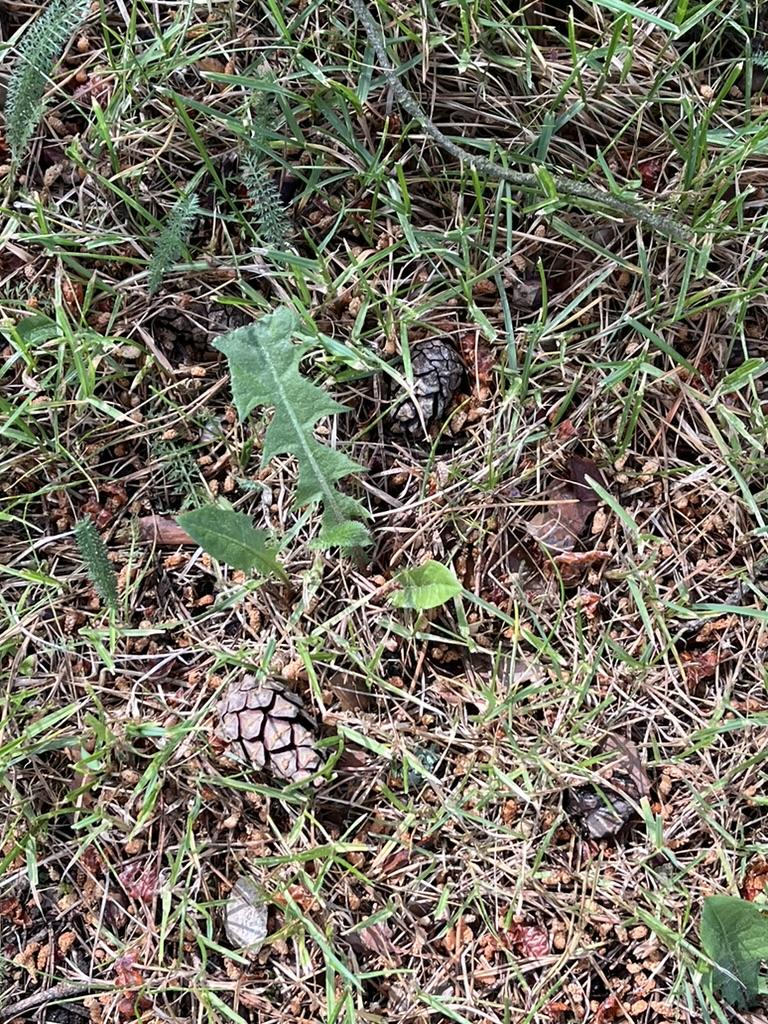pine: (194, 673, 346, 808), (388, 320, 466, 453)
